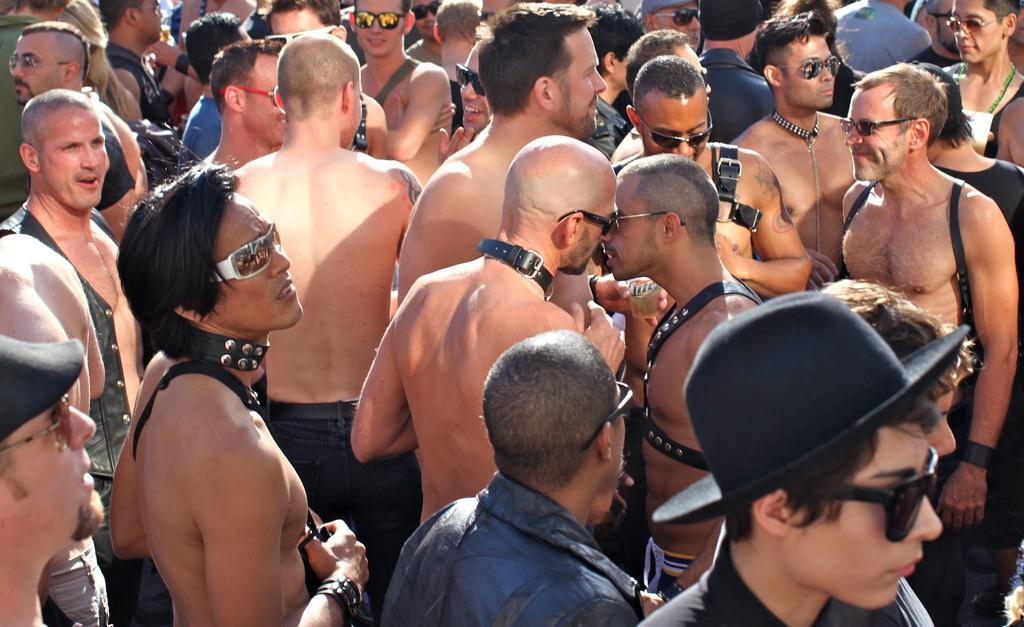Hat: (652, 289, 972, 524)
